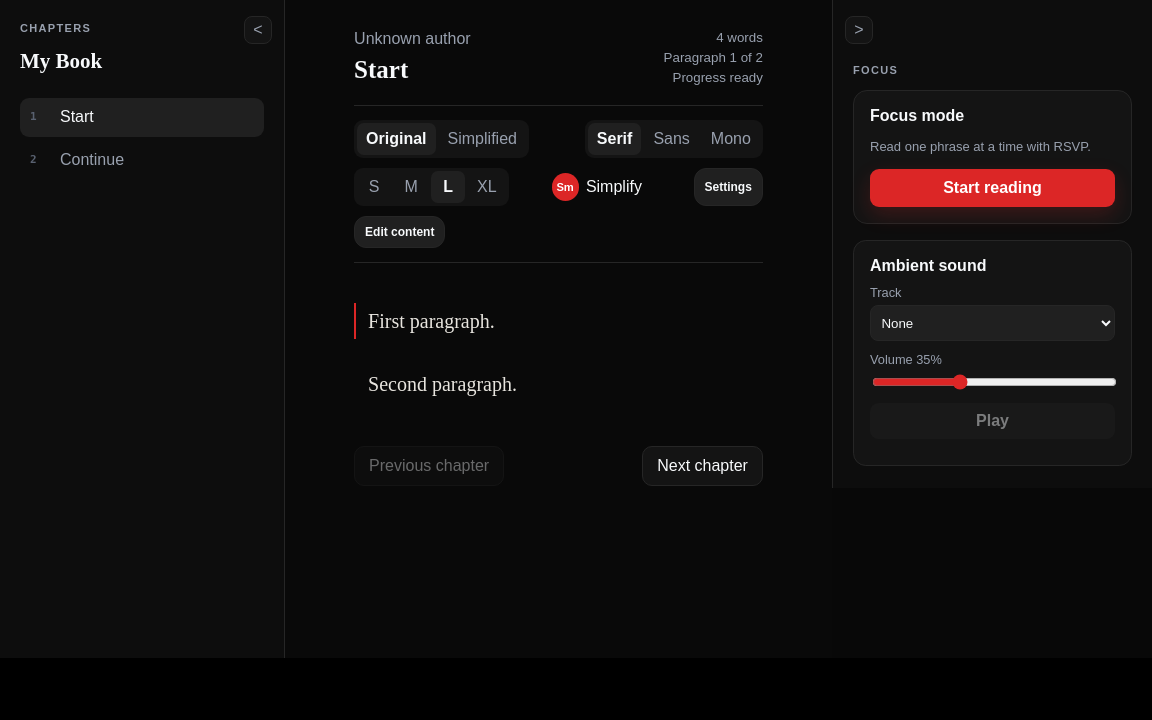
Test: reader desktop shell › flushes the current paragraph checkpoint on page hide
Click the text "Second paragraph.". click: (442, 384)
box: x1=368 y1=373 x2=517 y2=395
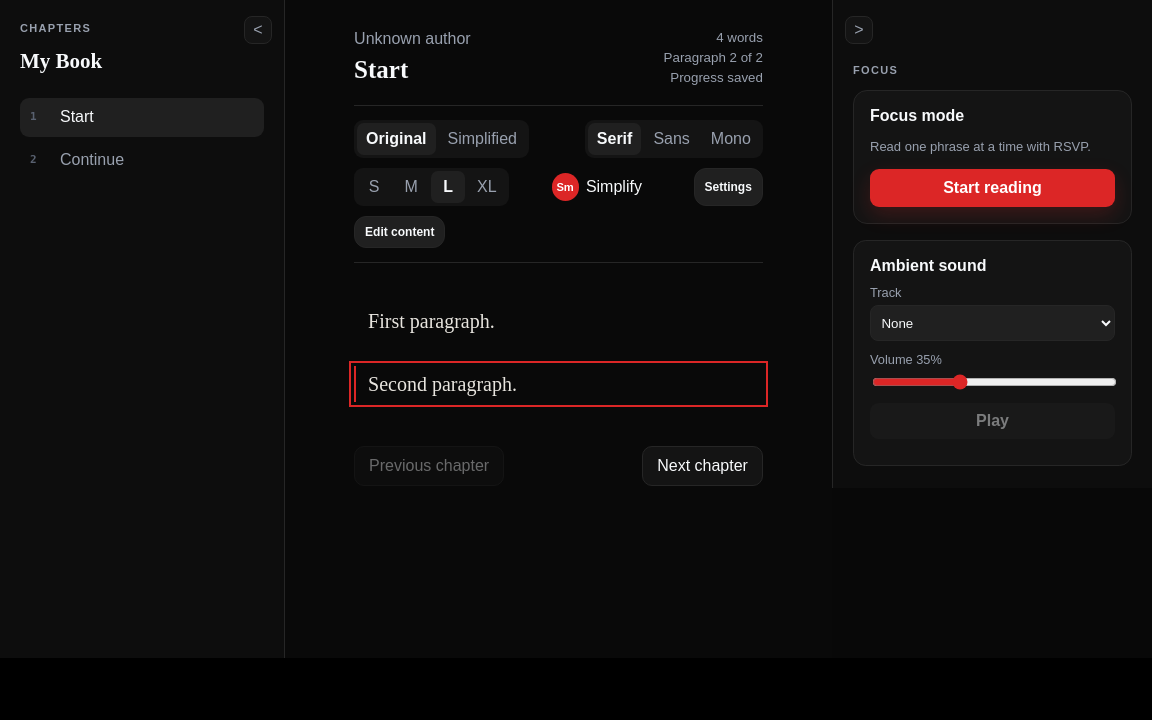
Expected: the text "Paragraph 2 of 2" is shown, x1=664 y1=50 x2=763 y2=65
